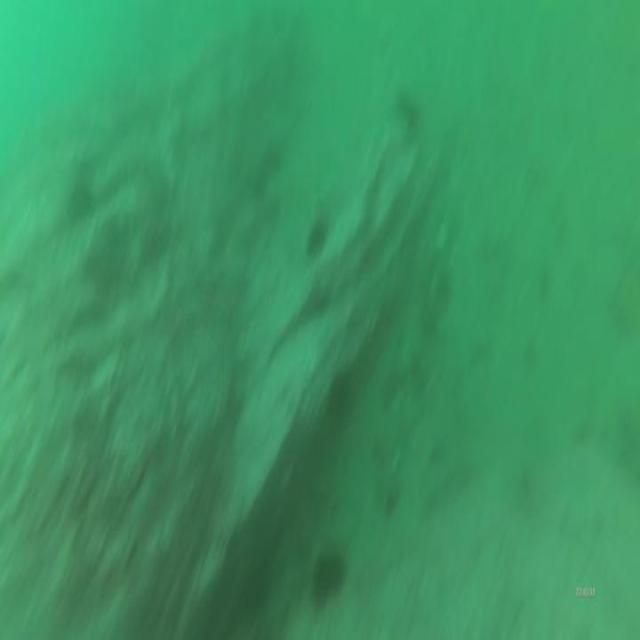echinus: (305, 545, 347, 615), (64, 180, 95, 229), (303, 217, 330, 260)
